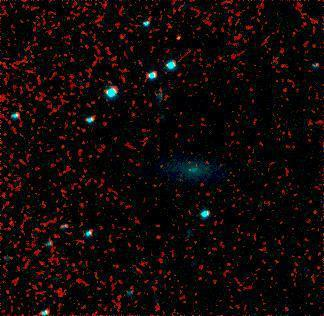star: (163, 21, 193, 51)
